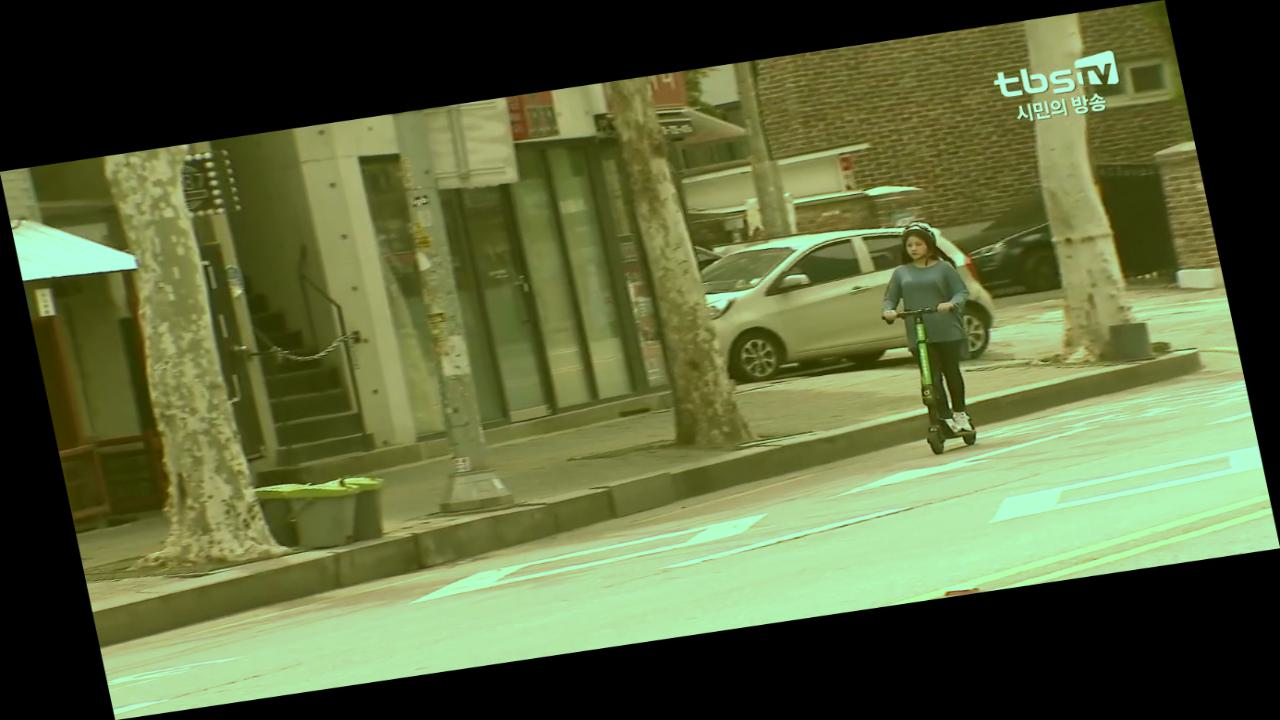helmet: (862, 214, 1003, 458)
